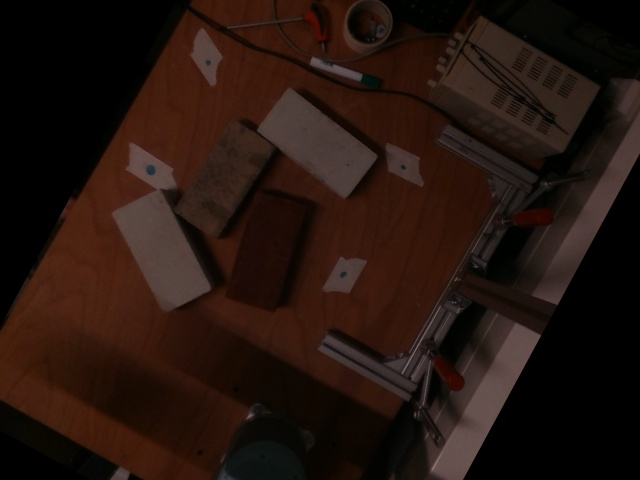brick: (258, 87, 378, 197), (113, 190, 210, 312), (176, 118, 276, 234), (225, 189, 303, 311)
